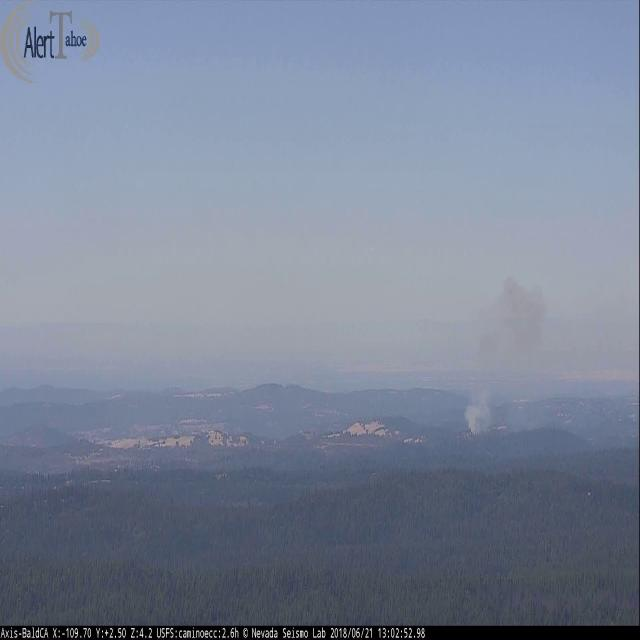smoke: (460, 267, 555, 443)
